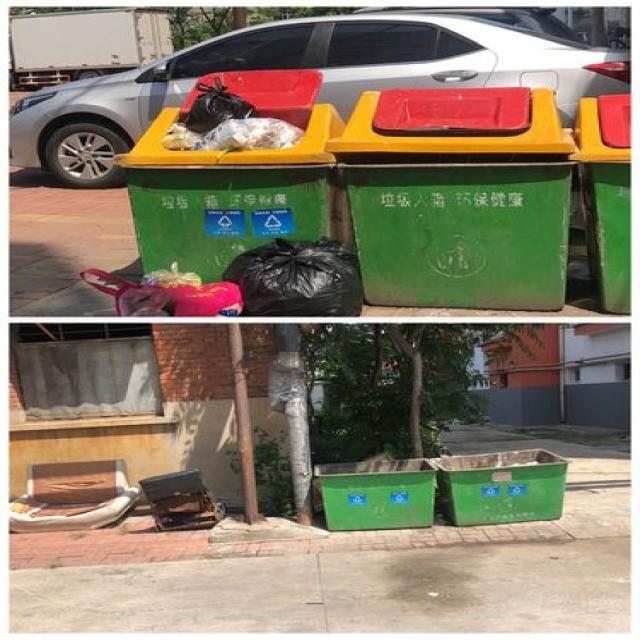garbage: (79, 235, 358, 315)
garbage_bin: (324, 84, 567, 312), (434, 449, 566, 526), (309, 458, 430, 530)
overflow: (111, 74, 341, 280)
